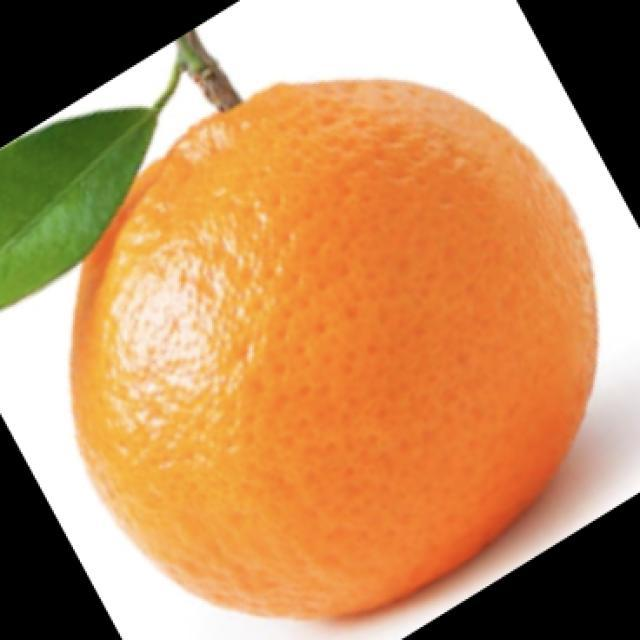matang: (72, 80, 596, 616)
